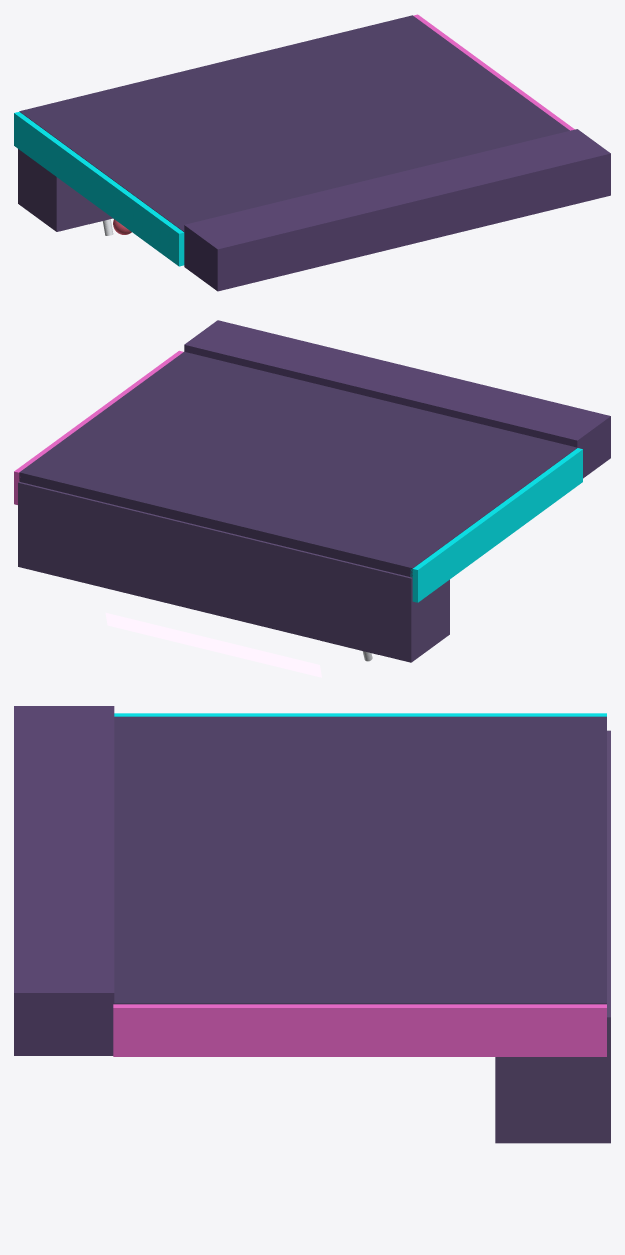
Rendered from arcade_cabinet.glb.
The picture shows the model from 3 angles, top to bottom: view 1: azimuth 30°, elevation 25°; view 2: azimuth 150°, elevation 25°; view 3: azimuth 270°, elevation 25°; orthographic projection. The views are drawn at different scales.
Visible parts, largest first — view 1: cabinet_body, marquee_box, left_neon_bar, control_deck, right_neon_bar; view 2: cabinet_body, control_deck, marquee_box, left_neon_bar, deck_labels, right_neon_bar; view 3: cabinet_body, marquee_box, right_neon_bar, control_deck, left_neon_bar.
Boxes of the visible parts, <box> form: cabinet_body: <box>19,15,569,231</box>; marquee_box: <box>184,129,610,291</box>; left_neon_bar: <box>14,111,184,266</box>; control_deck: <box>18,149,112,231</box>; right_neon_bar: <box>413,14,574,130</box>; cabinet_body: <box>19,351,576,577</box>; control_deck: <box>18,482,449,662</box>; marquee_box: <box>184,320,610,478</box>; left_neon_bar: <box>410,448,582,602</box>; deck_labels: <box>105,612,321,677</box>; right_neon_bar: <box>14,350,183,504</box>; cabinet_body: <box>113,716,606,1004</box>; marquee_box: <box>14,706,114,1055</box>; right_neon_bar: <box>113,1004,606,1056</box>; control_deck: <box>495,730,610,1143</box>; left_neon_bar: <box>114,713,606,716</box>.
Bounding box in the file's own units: 4.52 × 1.98 × 3.87.
